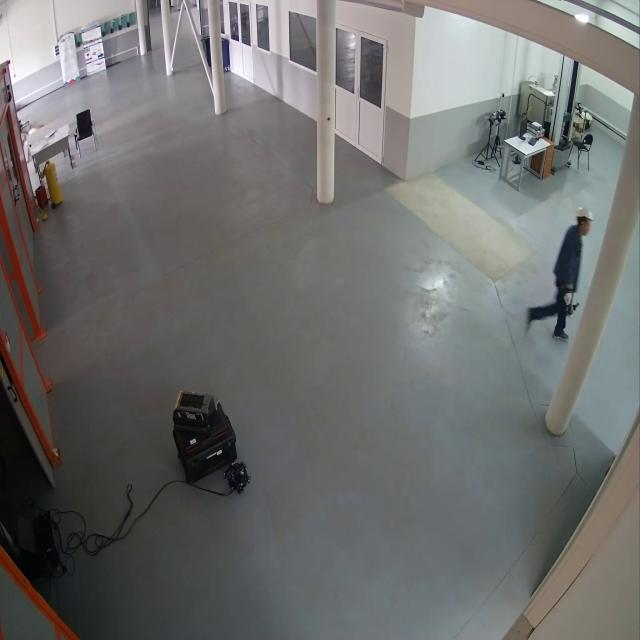Hardhat: (574, 200, 592, 222)
Person: (523, 196, 593, 348)
